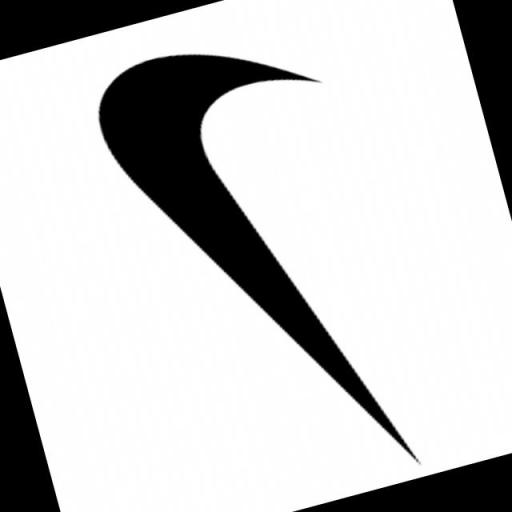Nike: (86, 19, 419, 512)
